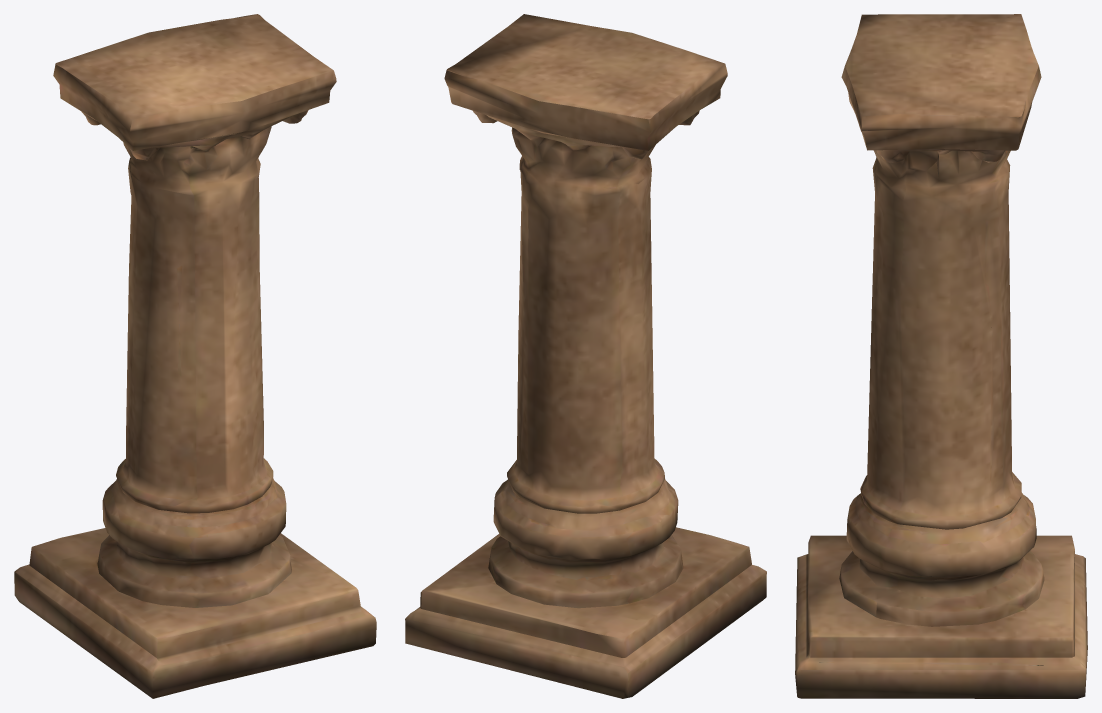
File: worn-sandstone-column-v001.glb
3 renders of one model, left to right at view 1: azimuth 30°, elevation 25°; view 2: azimuth 150°, elevation 25°; view 3: azimuth 270°, elevation 25°, orthographic. The views are drawn at different scales.
Parts seen in each view (by area): view 1: worn-sandstone-column; view 2: worn-sandstone-column; view 3: worn-sandstone-column.
Part boxes in pixels (<box>): worn-sandstone-column: <box>14,14,376,698</box>; worn-sandstone-column: <box>405,14,766,698</box>; worn-sandstone-column: <box>795,14,1087,698</box>.
Size of the model in its own units: 0.6683 by 1.6 by 0.731.
Materials: 1 (1 with a texture image).
